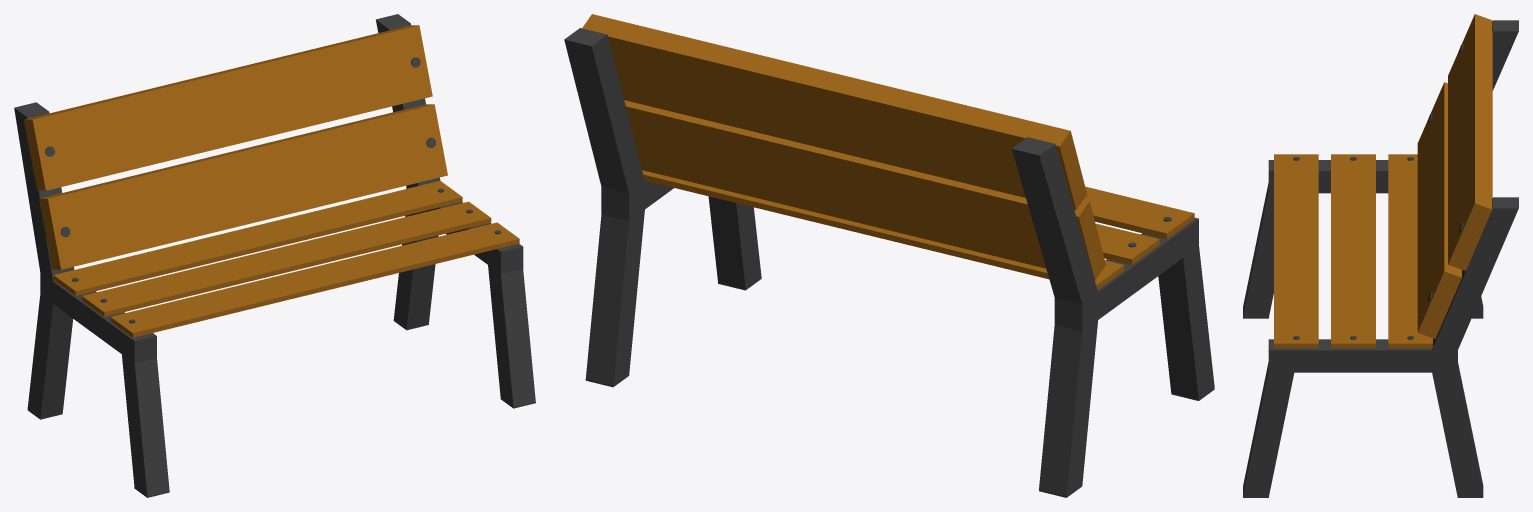
File: bench.fbx
3 renders of one model, left to right at view 1: azimuth 30°, elevation 25°; view 2: azimuth 150°, elevation 25°; view 3: azimuth 270°, elevation 25°, orthographic. The views are drawn at different scales.
Parts seen in each view (by area): view 1: 立方体.004, 立方体.003, 立方体, 立方体.001, 立方体.002, Cube.001, Cube.002, Cube, Cube.003; view 2: 立方体.004, 立方体.003, Cube.001, Cube.003, Cube, 立方体.002, Cube.002, 立方体, 立方体.001; view 3: Cube.003, 立方体.004, 立方体, 立方体.001, 立方体.003, 立方体.002, Cube.002, Cube, Cube.001.
Boxes of the visible parts, box(x1,y1,x2,y2) form: 立方体.004: box(24, 25, 432, 190); 立方体.003: box(39, 104, 447, 269); 立方体: box(110, 222, 519, 337); 立方体.001: box(82, 201, 491, 316); 立方体.002: box(53, 180, 462, 295); Cube.001: box(14, 102, 156, 419); Cube.002: box(488, 265, 535, 408); Cube: box(122, 354, 169, 497); Cube.003: box(375, 14, 523, 330); 立方体.004: box(582, 14, 1086, 210); 立方体.003: box(624, 100, 1105, 280); Cube.001: box(1012, 137, 1198, 497); Cube.003: box(564, 28, 673, 387); Cube: box(1158, 246, 1214, 400); 立方体.002: box(642, 170, 1124, 289); Cube.002: box(708, 196, 761, 290); 立方体: box(1084, 186, 1194, 238); 立方体.001: box(1095, 223, 1159, 264); Cube.003: box(1268, 197, 1518, 497); 立方体.004: box(1448, 14, 1492, 270); 立方体: box(1274, 154, 1318, 348); 立方体.001: box(1331, 154, 1375, 348); 立方体.003: box(1417, 82, 1461, 338); 立方体.002: box(1388, 154, 1432, 348); Cube.002: box(1243, 362, 1294, 497); Cube: box(1243, 183, 1273, 318); Cube.001: box(1268, 20, 1518, 318).
Bounding box in the file's own units: 348 × 251 × 213.
